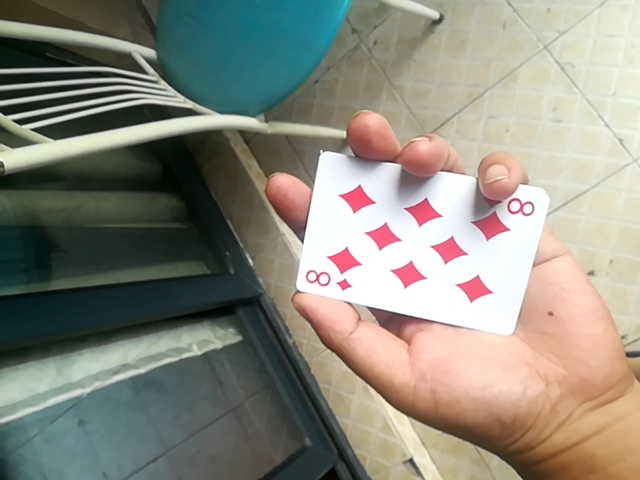fk 8: (296, 154, 544, 331)
